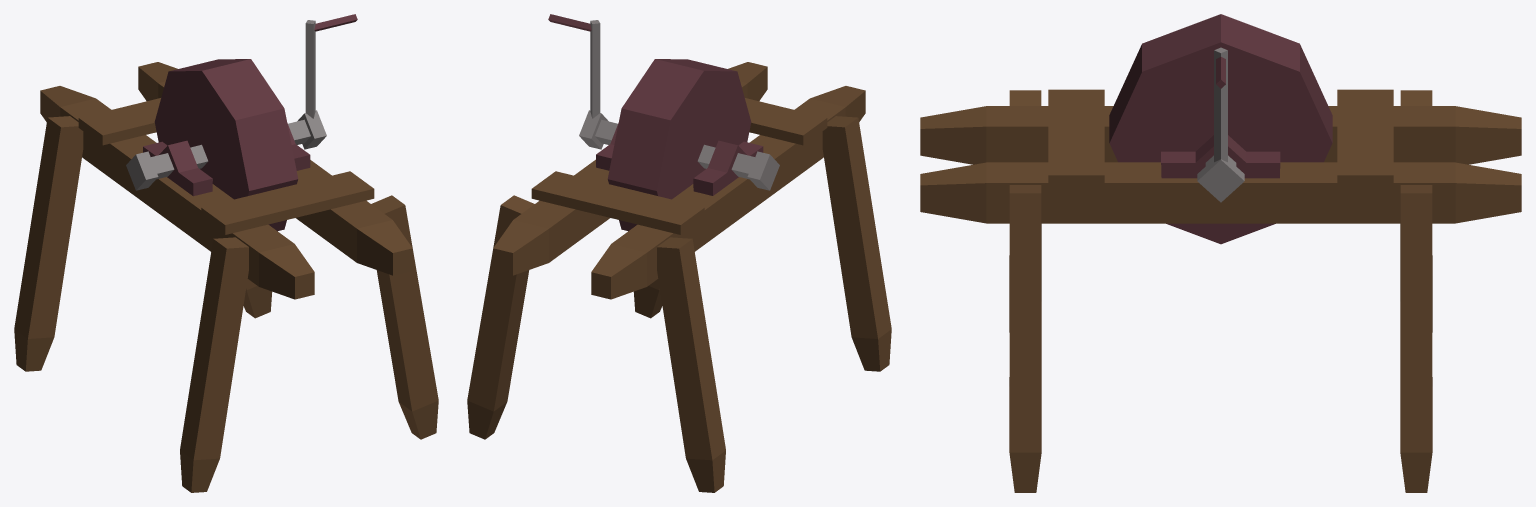
Rendered from SM_Grinding_Stone_Empire.fbx.
The picture shows the model from 3 angles, left to right: view 1: azimuth 30°, elevation 25°; view 2: azimuth 150°, elevation 25°; view 3: azimuth 270°, elevation 25°; orthographic projection. The views are drawn at different scales.
Visible parts, largest first — view 1: SM_Grinding_Stone_Empire; view 2: SM_Grinding_Stone_Empire; view 3: SM_Grinding_Stone_Empire.
Boxes of the visible parts, x1=… form: SM_Grinding_Stone_Empire: x1=14, y1=14, x2=438, y2=492; SM_Grinding_Stone_Empire: x1=467, y1=14, x2=891, y2=492; SM_Grinding_Stone_Empire: x1=920, y1=14, x2=1521, y2=492.
Size of the model in its own units: 0.9838 by 1.34 by 1.72.
